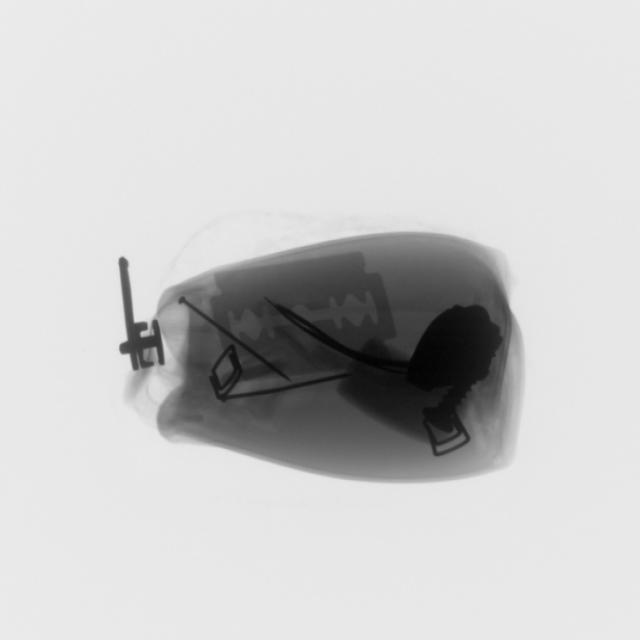BLADE: (210, 267, 410, 376)
